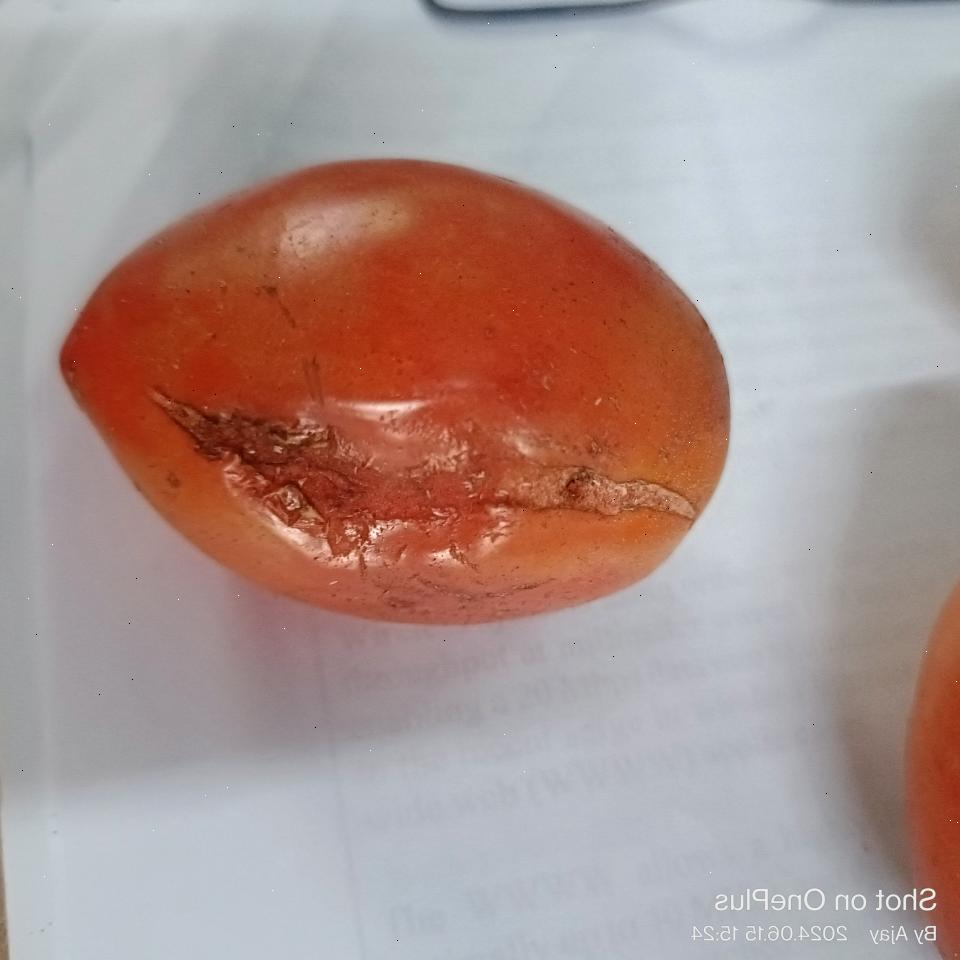Cracking: (129, 385, 702, 563)
